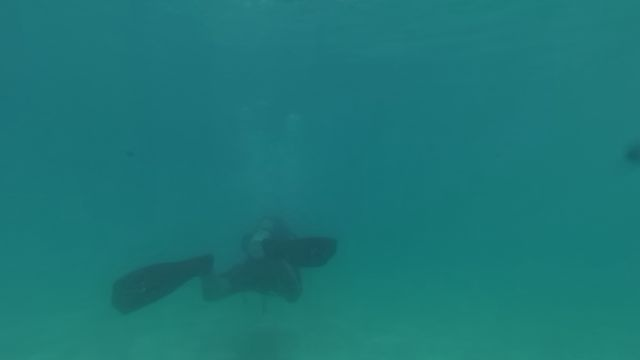Diver: (102, 212, 344, 332)
